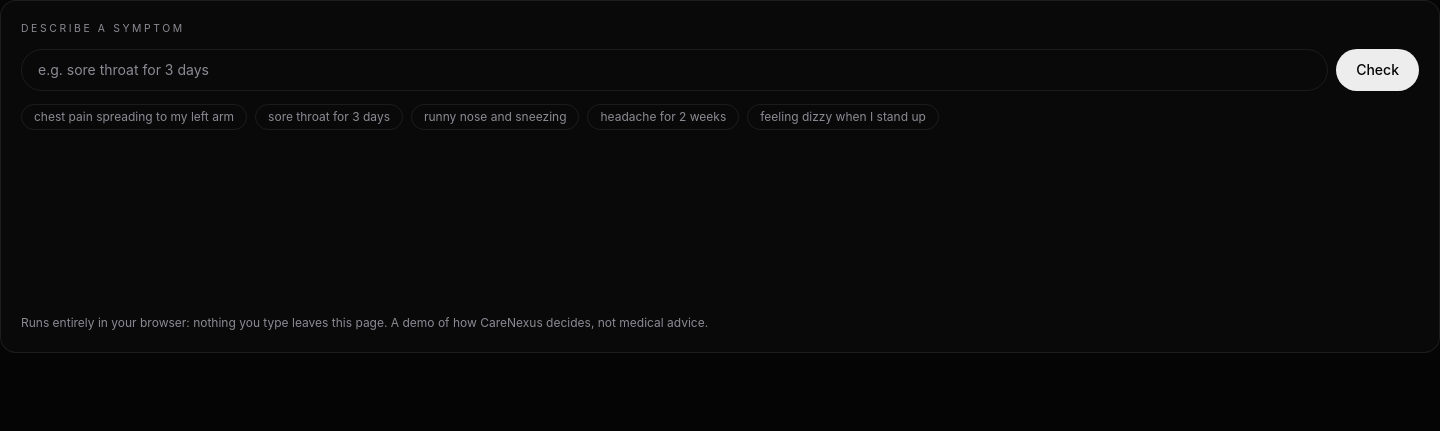
Test case: pocket triage demo › loads the knowledge base only once, and answers a suggestion with its level and steps
Click the button "sore throat for 3 days" at (329, 117), box x1=255 y1=104 x2=403 y2=130
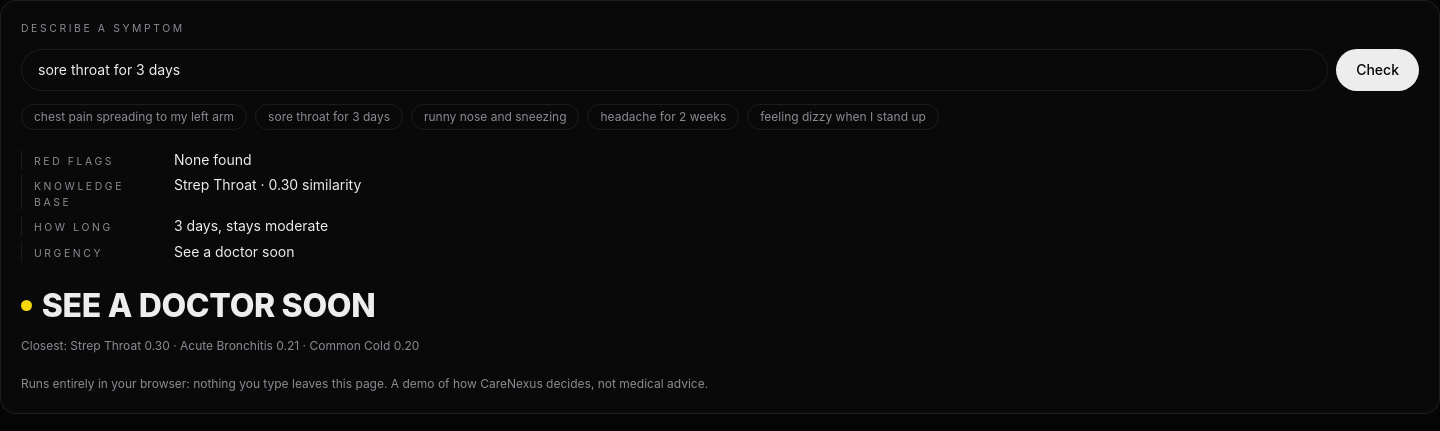
Result: the element with test id "triage-result" shows "See a doctor soon" at x1=42 y1=286 x2=375 y2=325
Result: the element with test id "triage-result" shows "Strep" at x1=70 y1=338 x2=419 y2=353
Result: the field labelled "Describe a symptom" holds "sore throat for 3 days" at x1=21 y1=49 x2=1328 y2=91
